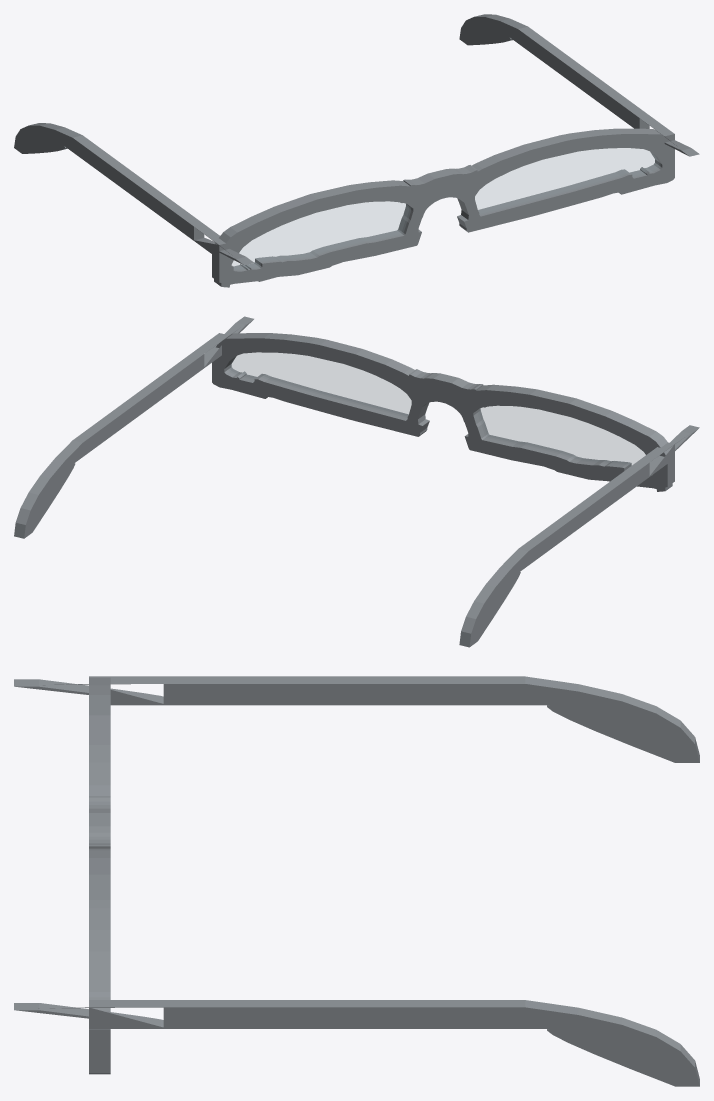
Rendered from spe20.glb.
The picture shows the model from 3 angles, top to bottom: view 1: azimuth 30°, elevation 25°; view 2: azimuth 150°, elevation 25°; view 3: azimuth 270°, elevation 25°; orthographic projection. The views are drawn at different scales.
Visible parts, largest first — view 1: RimRight, RimLeft, LensLeftExterior, LensRightExterior, EarhookLeft, EarhookRight, Bridge, TempleLeft, TempleRight; view 2: RimRight, RimLeft, EarhookRight, EarhookLeft, LensLeftExterior, LensRightExterior, Bridge, TempleLeft, TempleRight; view 3: EarhookLeft, EarhookRight, RimRight, TempleRight, RimLeft, TempleLeft, Bridge.
Part boxes in pixels (box(x1,y1,x2,y2)): RimRight: box(457, 128, 674, 232); RimLeft: box(212, 180, 425, 287); LensLeftExterior: box(232, 202, 410, 269); LensRightExterior: box(475, 148, 659, 214); EarhookLeft: box(14, 123, 204, 240); EarhookRight: box(459, 14, 649, 128); Bridge: box(403, 165, 477, 219); TempleLeft: box(186, 218, 253, 265); TempleRight: box(631, 109, 699, 156); RimRight: box(212, 333, 429, 436); RimLeft: box(461, 384, 674, 491); EarhookRight: box(14, 351, 204, 538); EarhookLeft: box(459, 463, 649, 647); LensLeftExterior: box(480, 406, 644, 465); LensRightExterior: box(230, 353, 410, 415); Bridge: box(409, 369, 483, 424); TempleLeft: box(631, 425, 699, 476); TempleRight: box(186, 316, 253, 367); EarhookLeft: box(163, 676, 699, 762); EarhookRight: box(163, 1000, 699, 1086); RimRight: box(89, 848, 110, 1074); TempleRight: box(14, 1000, 188, 1028); RimLeft: box(89, 677, 110, 795); TempleLeft: box(14, 676, 188, 705); Bridge: box(89, 796, 110, 848).
Bounding box in the file's own units: 0.14 × 0.022 × 0.1227.
